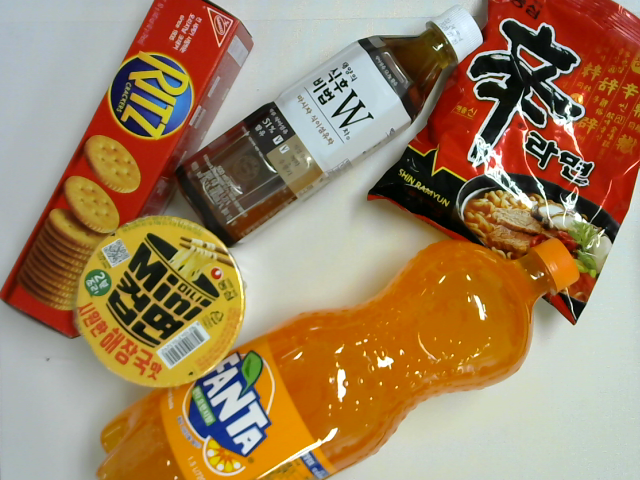Hejangmini: (75, 214, 242, 388)
Hwanta_Orange_1.5L: (97, 236, 580, 480)
Post-meal_recipe_W_tea_500ml: (174, 5, 484, 250)
Ritz_Cracker: (1, 1, 261, 340)
Sinramen: (367, 1, 637, 326)
